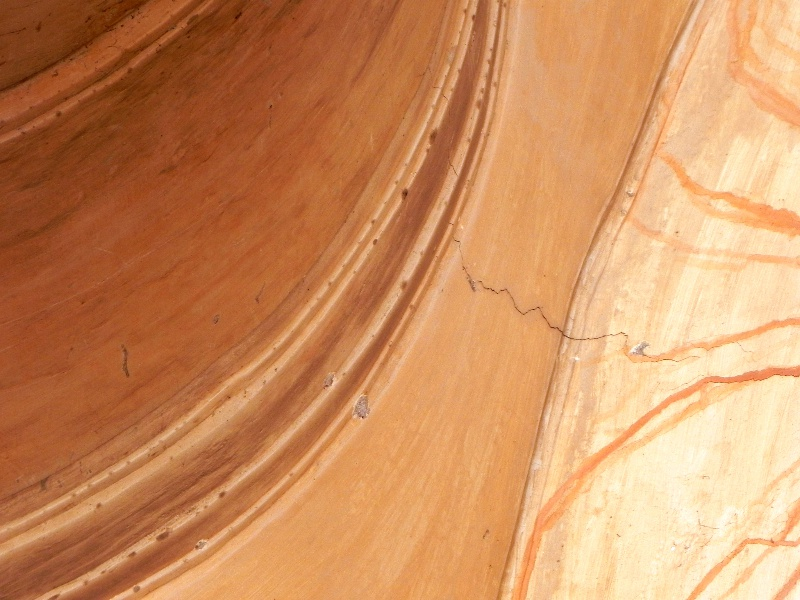Crack: (445, 218, 631, 350)
